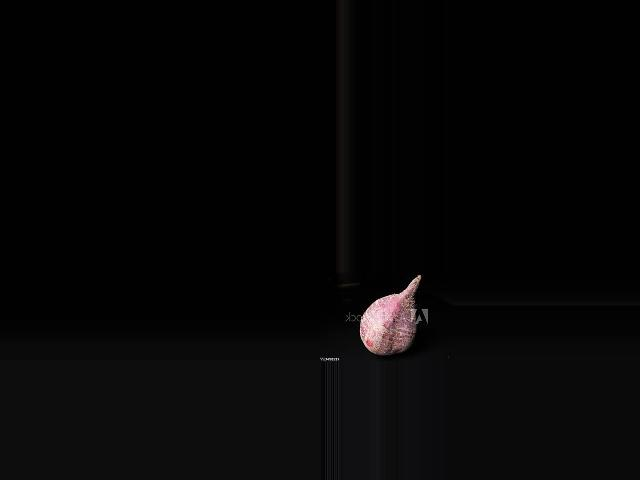beet: (359, 275, 420, 355)
